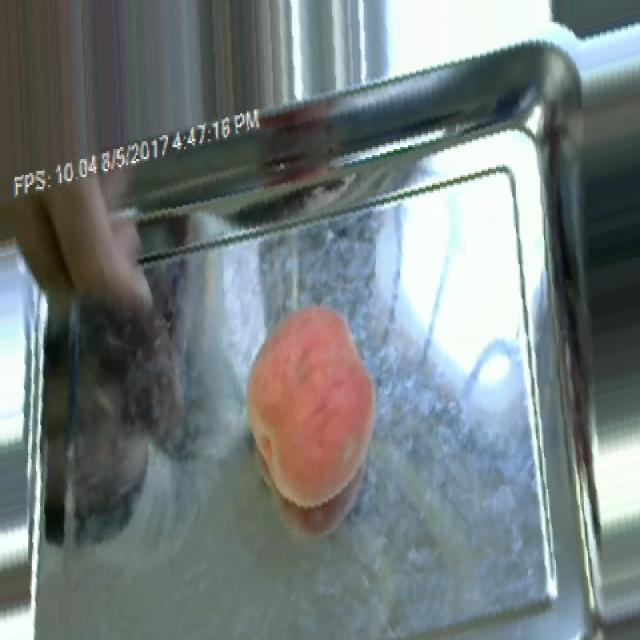Fruit: (228, 290, 395, 523)
